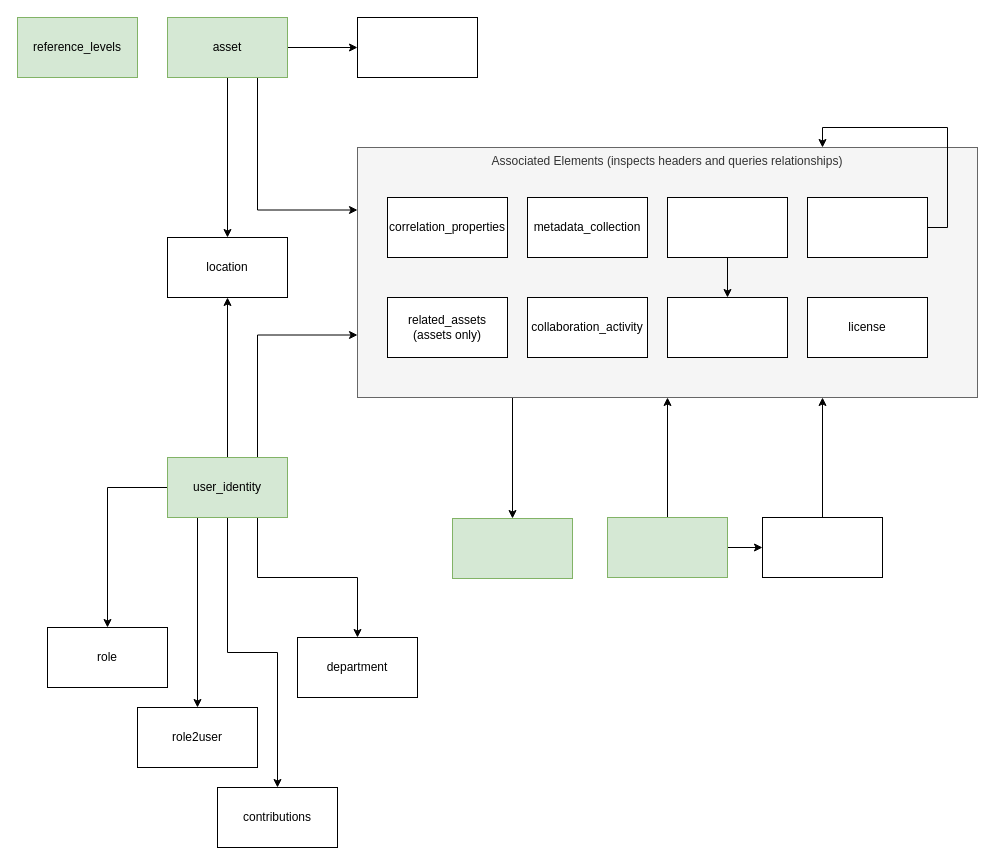
This 995x865 diagram has some shape labels left out. The shapes that lost their labels are listed below. From the top down, each one's centre as x and y in pixels, then its label:
At pixel 417 47: "asset_types".
At pixel 727 227: "certifications".
At pixel 867 227: "data_fields (assets only)".
At pixel 727 327: "certification_type".
At pixel 512 548: "external_user".
At pixel 667 547: "glossary".
At pixel 822 547: "term_activity".
